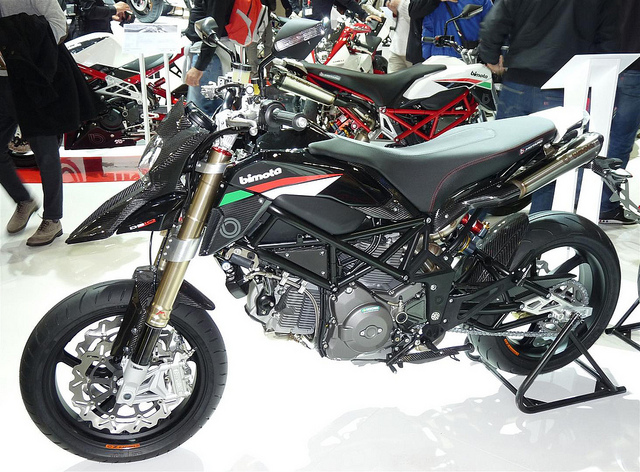Bike: (22, 64, 640, 466)
